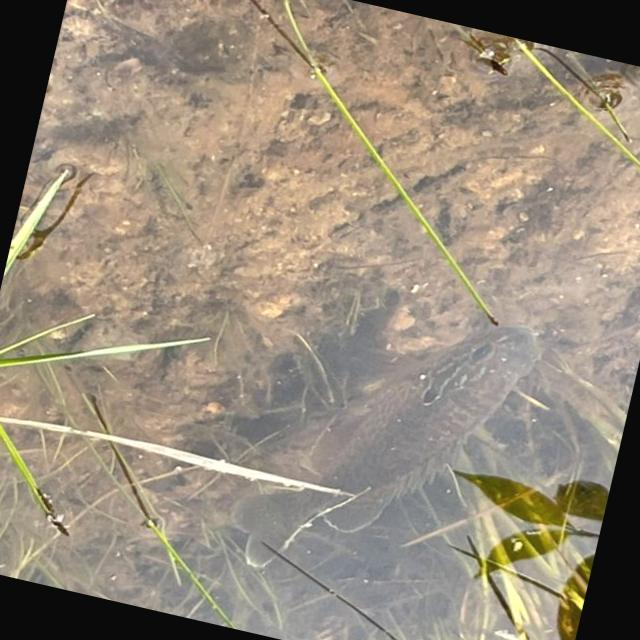Gunes Levregi: (211, 261, 552, 628)
